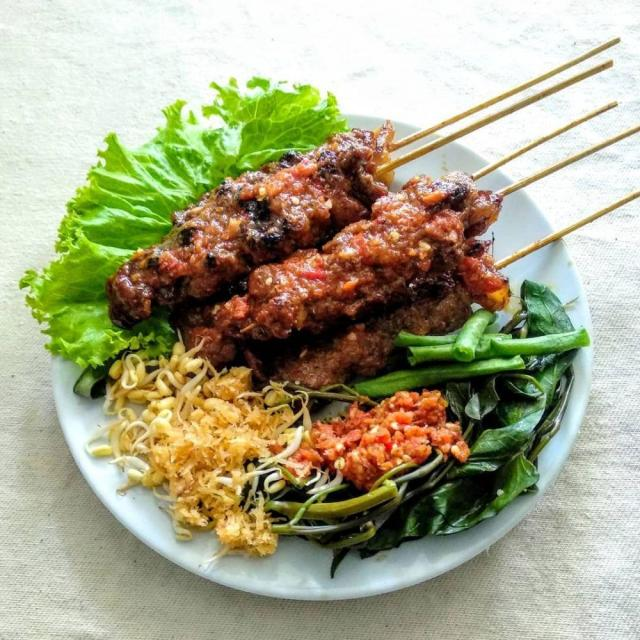Sate: (172, 55, 624, 371)
